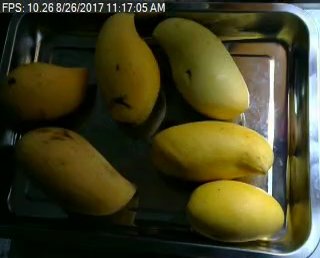Mango: (15, 127, 137, 216), (152, 18, 249, 118), (95, 12, 160, 121), (150, 121, 272, 179), (186, 181, 284, 242), (0, 65, 86, 122)
